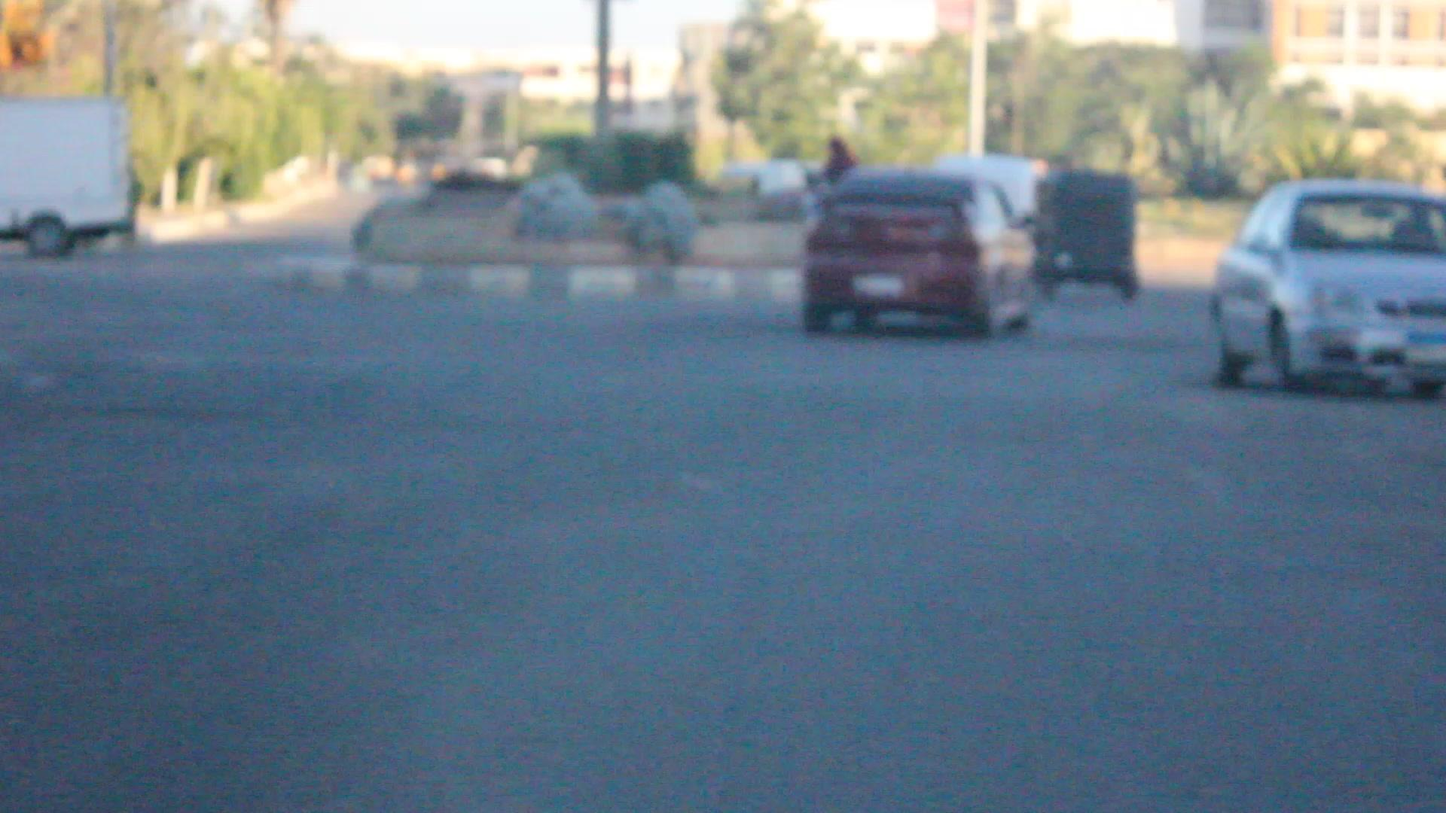Bump: (6, 371, 1446, 508)
